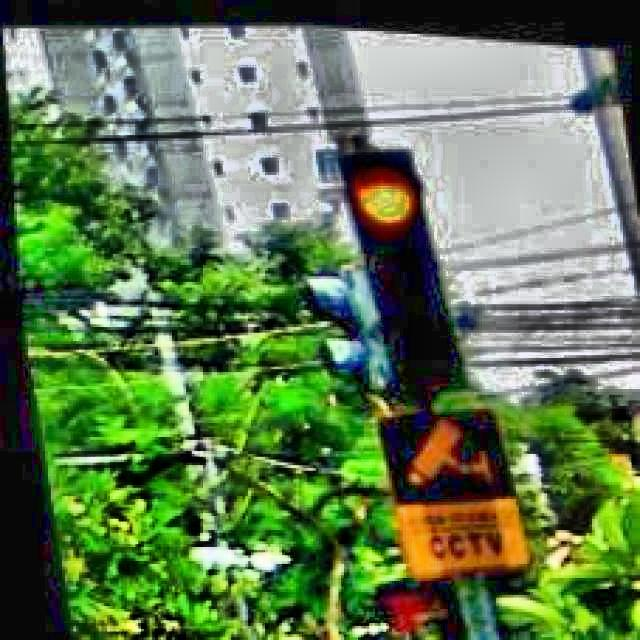red: (338, 146, 471, 395)
